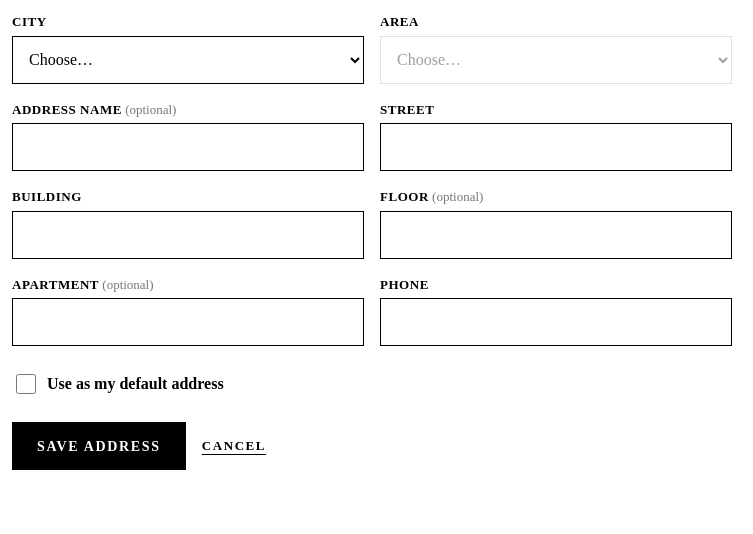
it: AddressForm › shows the API's 422 messages next to the matching inputs, and keeps what was typed
Select "Giza" in the dropdown with test id "address-city". click: (188, 60)
box: [12,36,364,84]
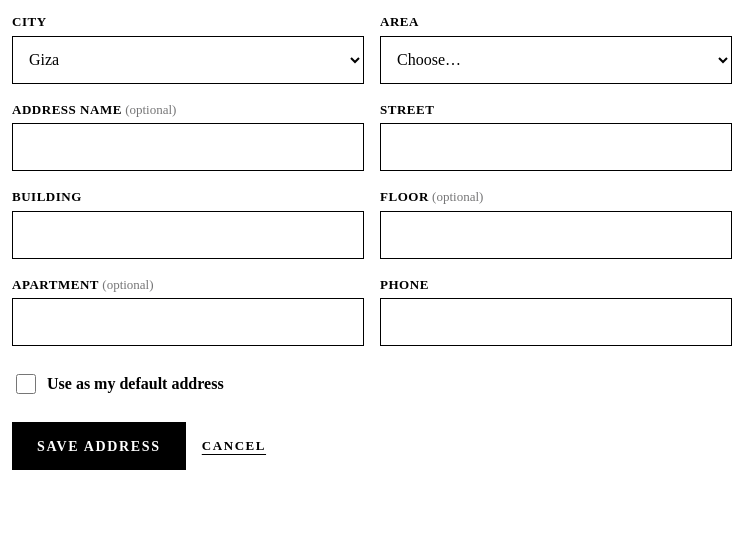
Type "Desert Rd" into the field labelled "Street". click: (556, 147)
box: [380,123,732,171]
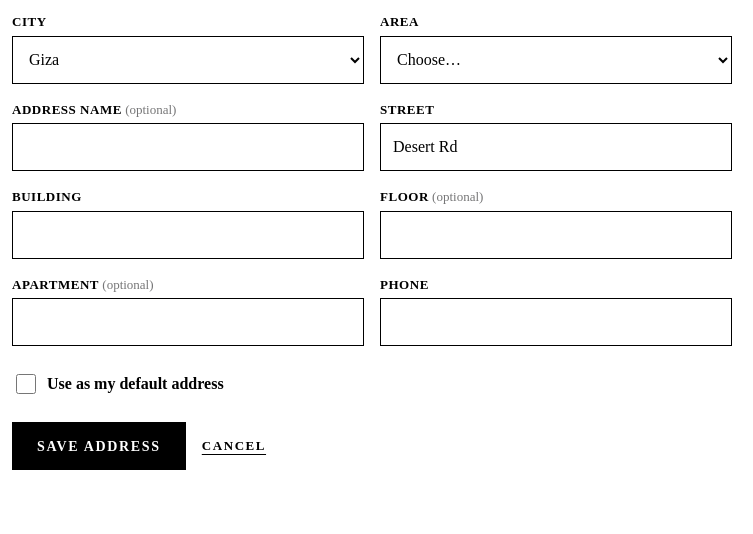
Submit the form with test id "address-form"
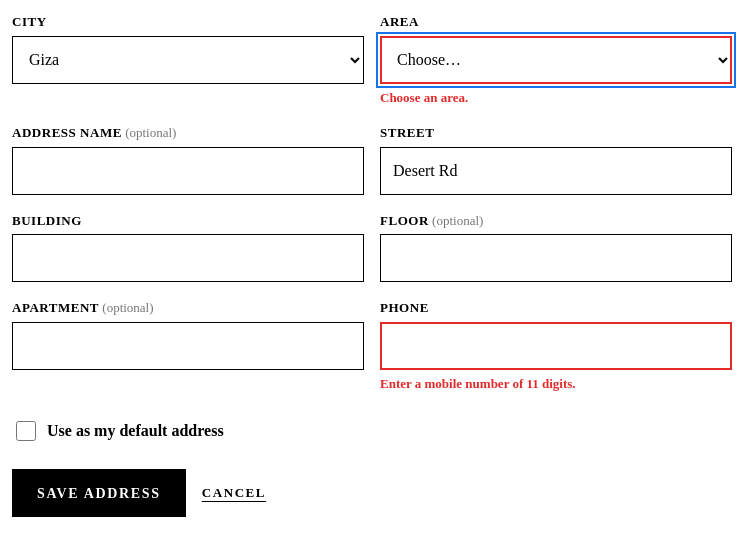
Result: the text "Choose an area." is shown at [380,90,468,104]
